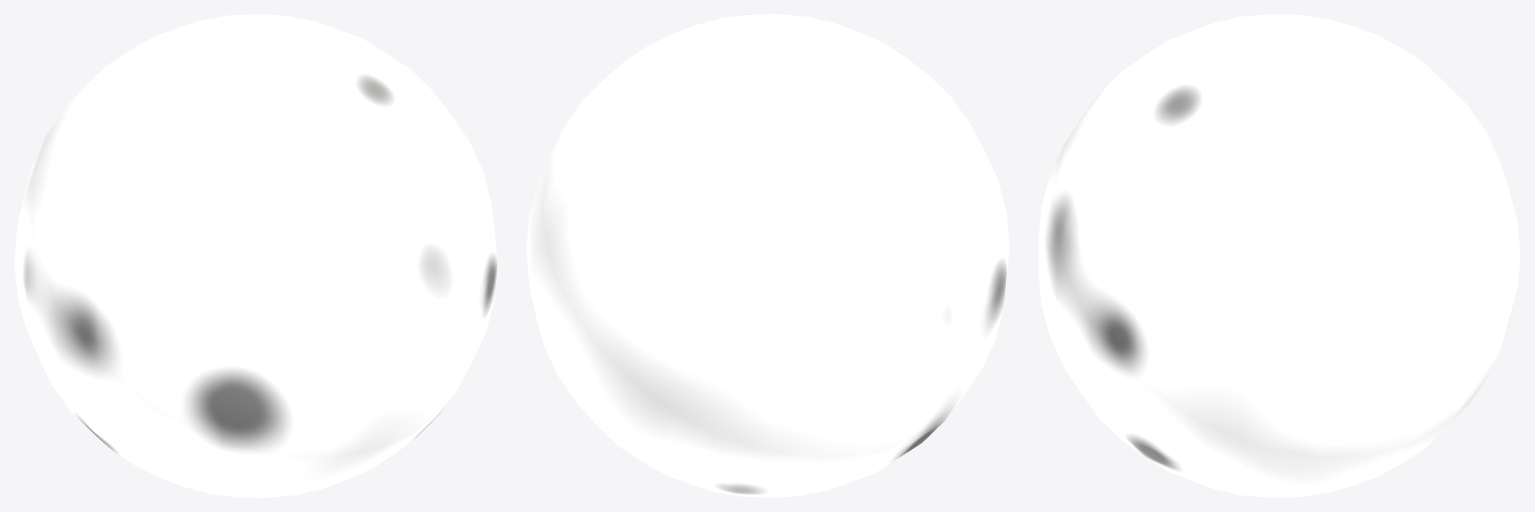
Rendered from moon.gltf.
3 views of the same model, side by side, from view 1: azimuth 30°, elevation 25°; view 2: azimuth 150°, elevation 25°; view 3: azimuth 270°, elevation 25° (orthographic).
Visible parts, largest first — view 1: Sphere; view 2: Sphere; view 3: Sphere.
Part boxes in pixels (x1,y1,x2,y2): Sphere: (14,14,497,497); Sphere: (526,14,1009,497); Sphere: (1038,14,1520,497).
Size of the model in its own units: 2 by 2 by 1.99.
Materials: 1 (1 with a texture image).
